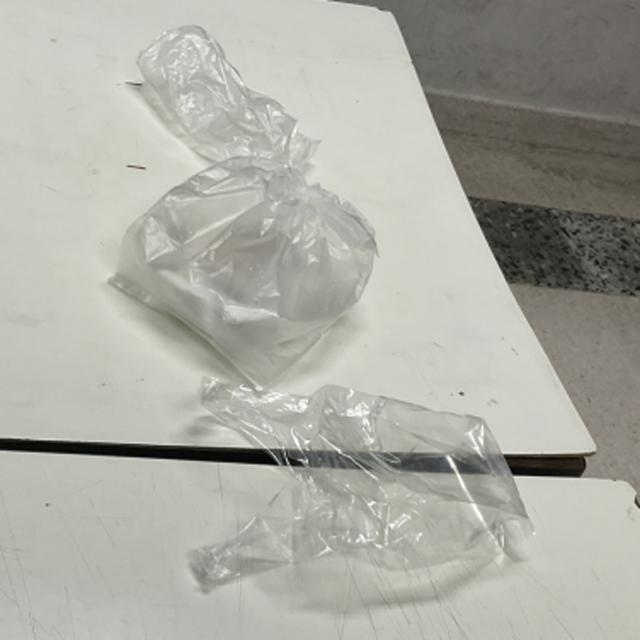Single-layer Plastic: (190, 380, 532, 589), (110, 158, 378, 387), (138, 25, 319, 169)
